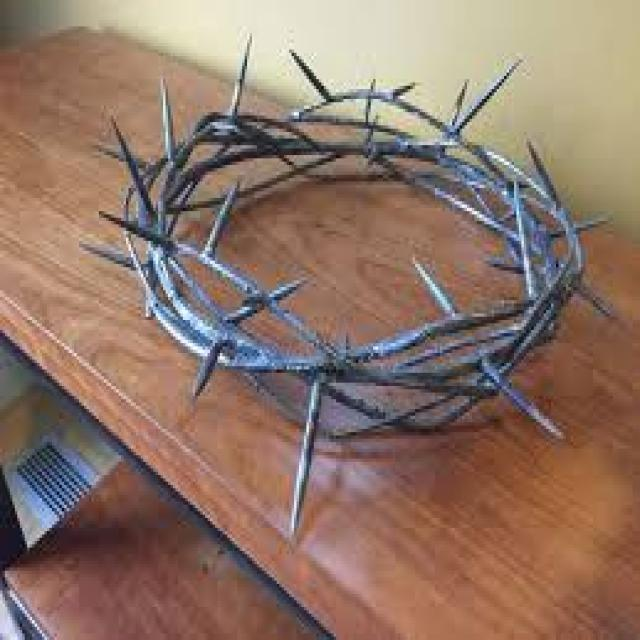crown: (118, 37, 618, 495)
